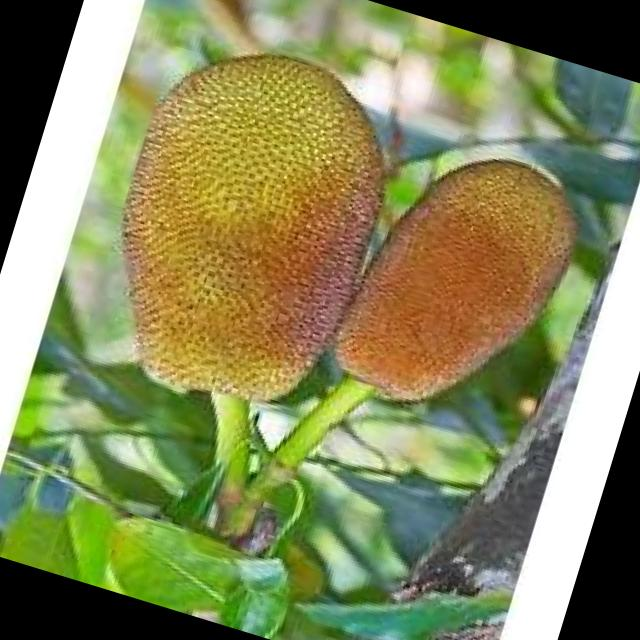Fruit: (43, 0, 455, 461), (292, 96, 629, 468)
